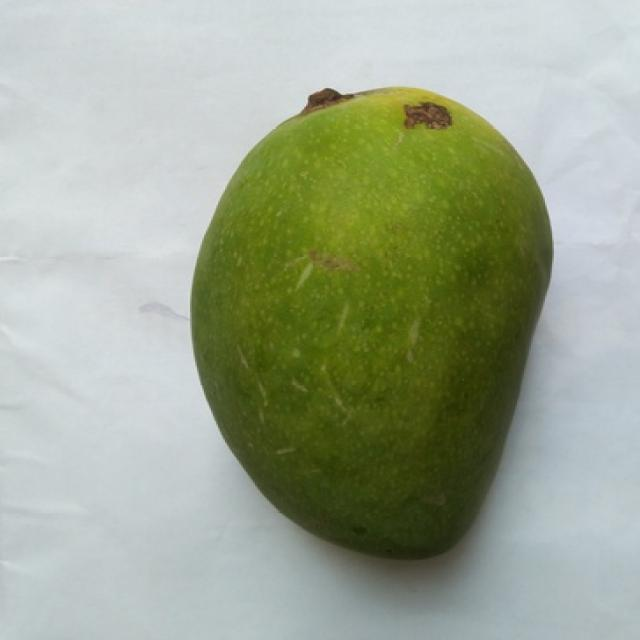Mango: (193, 88, 550, 557)
